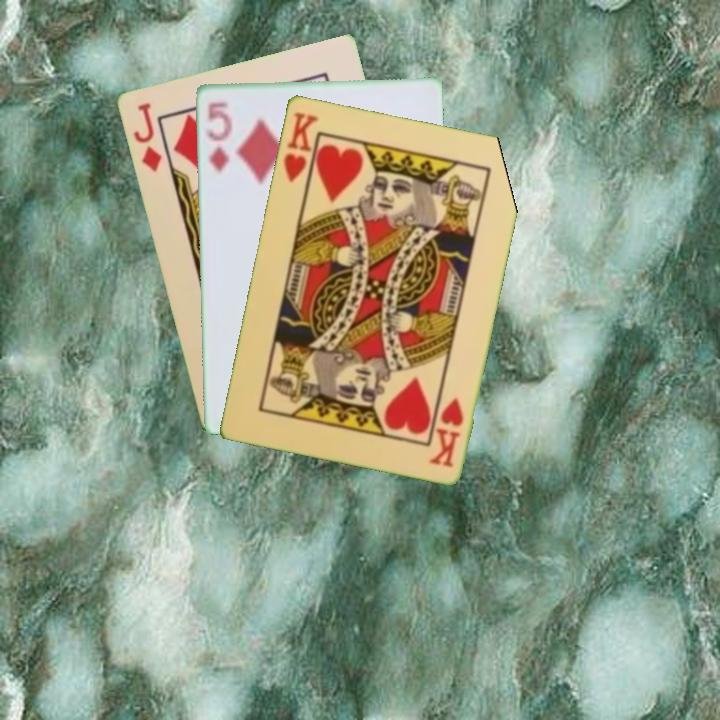5d: (204, 98, 234, 176)
Jd: (129, 98, 164, 175)
Kh: (279, 108, 322, 192), (426, 393, 466, 470)
